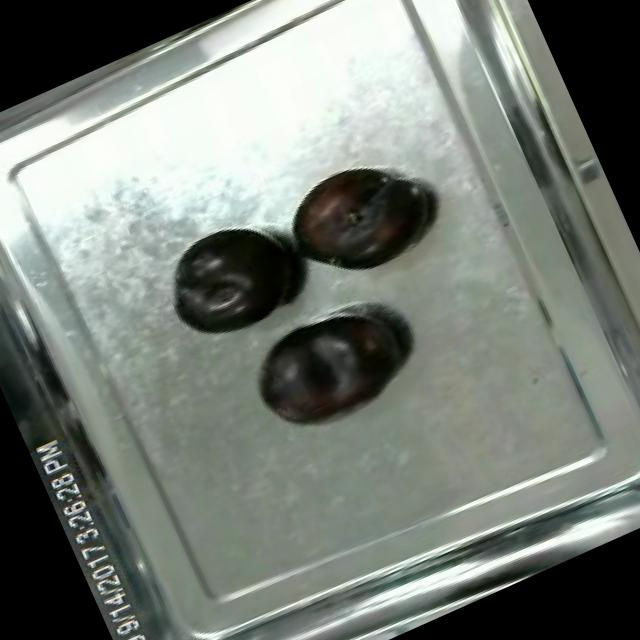Fruit: (233, 284, 428, 452), (272, 142, 448, 298), (150, 205, 316, 357)
